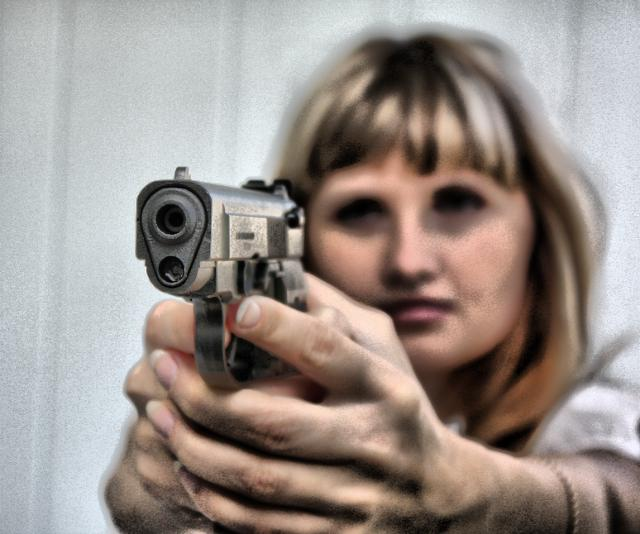pistol: (134, 158, 344, 406)
